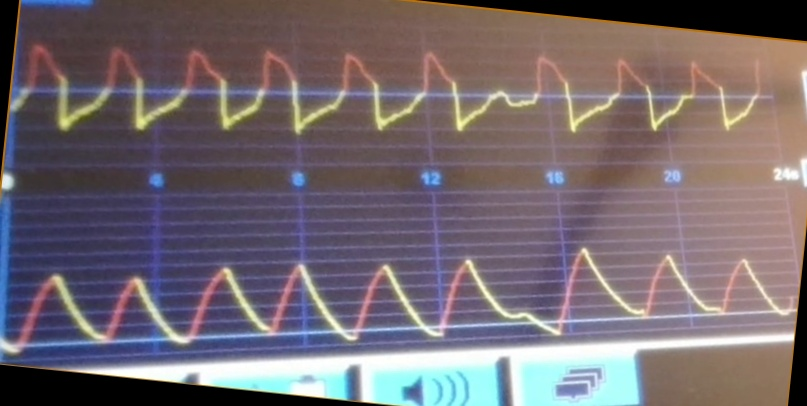Ineffective_effort Flow: (18, 39, 768, 152)
Ineffective_effort Volume: (8, 233, 789, 358)
